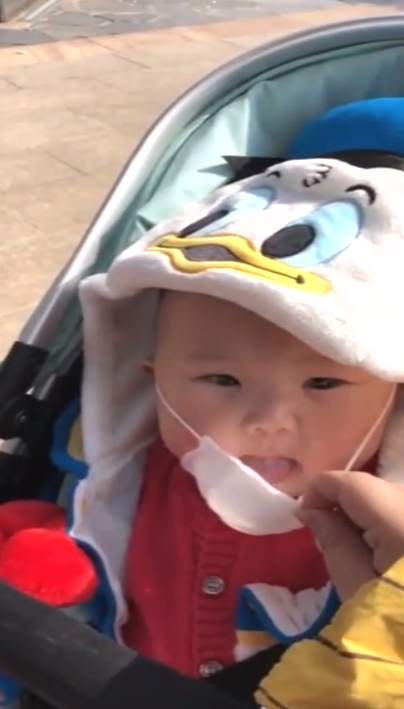mask_weared_incorrect: (131, 272, 404, 539)
